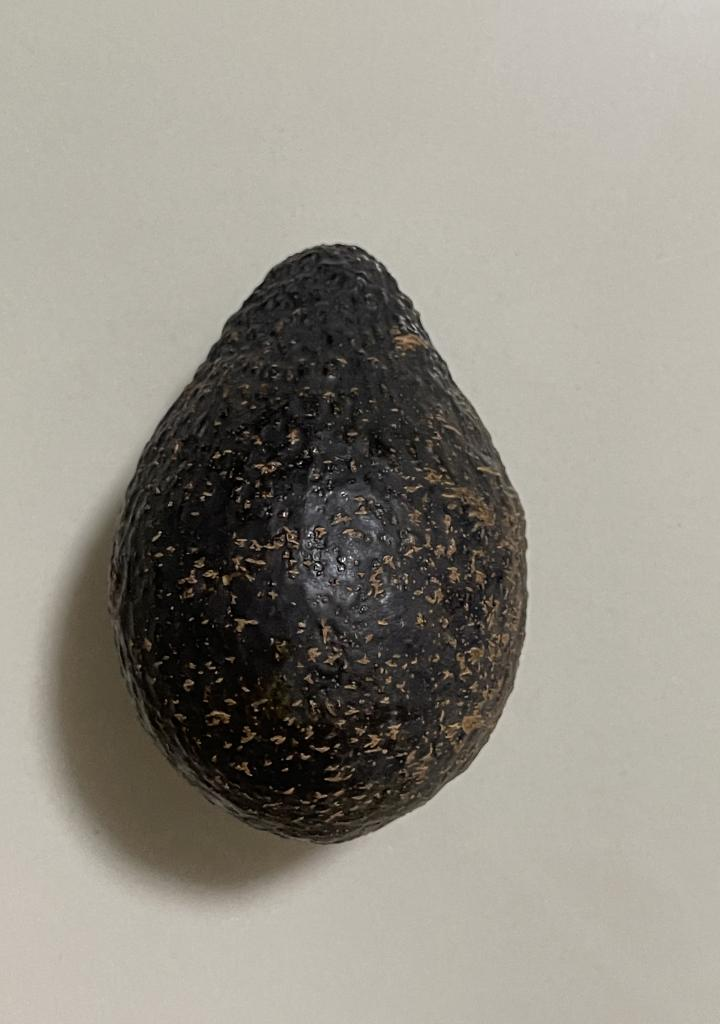Level3: (100, 229, 543, 856)
